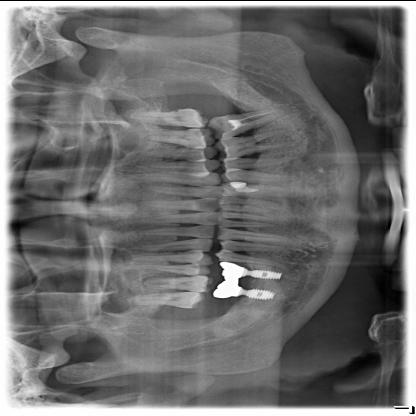Bicon: (241, 286, 283, 301), (246, 266, 284, 279)
